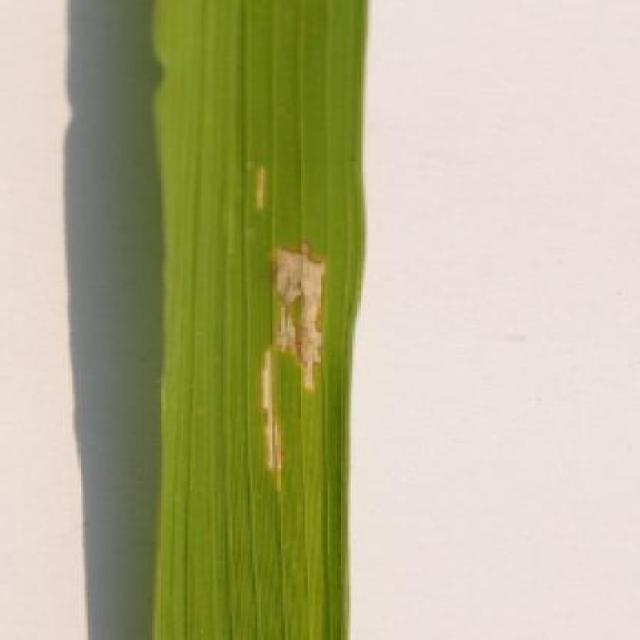Brown_Spot: (148, 0, 370, 640)
